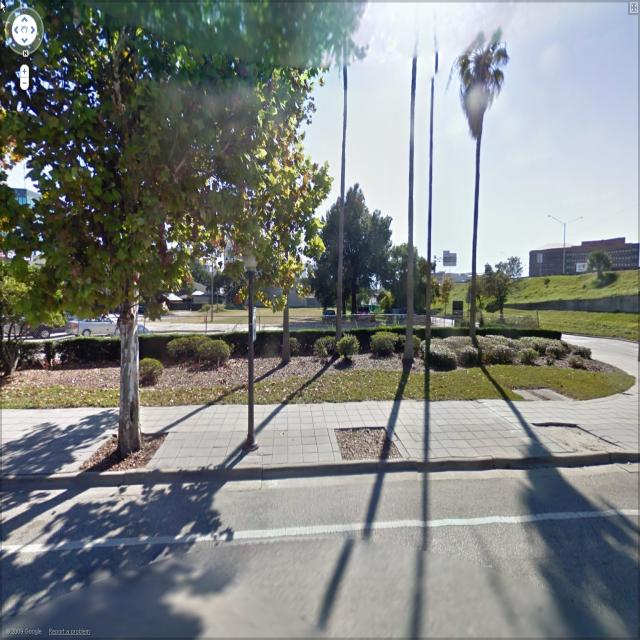b_1: (532, 222, 638, 280)
